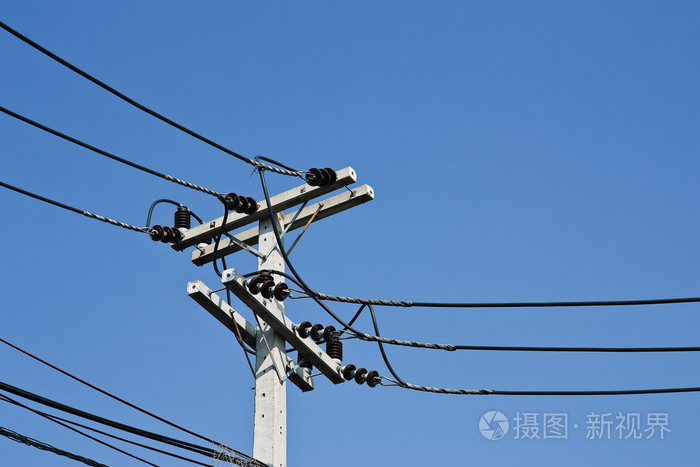insulator: (246, 275, 288, 302), (340, 361, 379, 387), (224, 189, 259, 214), (298, 318, 333, 341), (305, 164, 338, 186), (149, 226, 184, 245)
